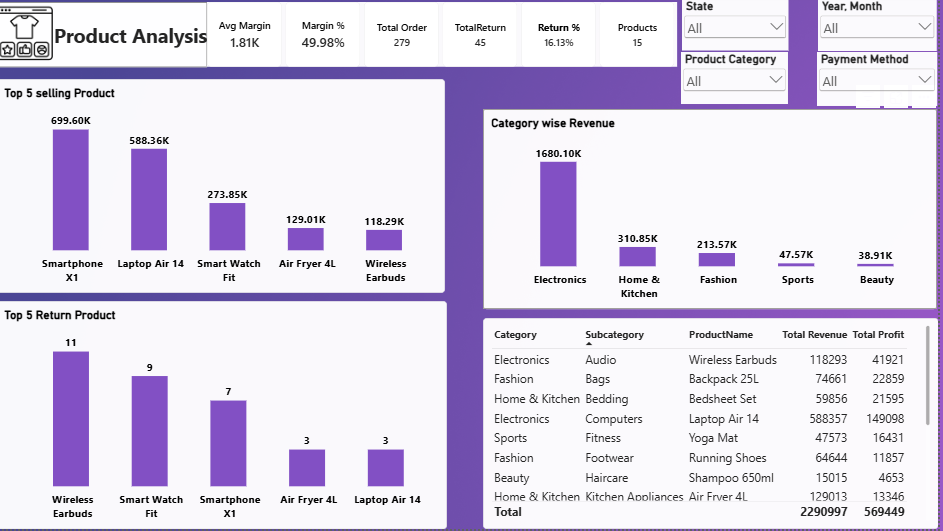

This screenshot's page, from the dashboard's own definition file:
{"tool":"powerbi","page":{"name":"product analysis","canvas":[1920,1080],"ordinal":1},"visuals":[{"type":"columnChart","title":"Top 5 selling Product","fields":{"Category":["Products_Dim.ProductName"],"Y":["01_DAX (2).Total Revenue"]},"box":[0,163,914.9,436.1],"z":0},{"type":"cardVisual","fields":{"Data":["01_DAX (2).AvgMargin","01_DAX (2).AvgMargin%","01_DAX (2).Total Order","01_DAX (2).TotalReturn","01_DAX (2).Return %","01_DAX (2).Total Products"]},"box":[430,6.1,957.7,132.5],"z":1000},{"type":"columnChart","title":"Category wise Revenue","fields":{"Category":["Products_Dim.Category"],"Y":["01_DAX (2).Total Revenue"]},"box":[992.4,224.2,925.1,407.5],"z":2000},{"type":"tableEx","title":"Top 5 selling Product","fields":{"Values":["Products_Dim.Category","Products_Dim.Subcategory","Products_Dim.ProductName","01_DAX (2).Total Revenue","01_DAX (2).Total Profit"]},"box":[991.6,649.8,928.4,430.4],"z":3000},{"type":"columnChart","title":"Top 5 Return Product","fields":{"Category":["Products_Dim.ProductName"],"Y":["Sum(Returns_Fact.ReturnedQuantity)"]},"box":[0,615.4,919,464.6],"z":4000},{"type":"slicer","fields":{"Values":["Date_Dim.Year","Date_Dim.MonthName"]},"box":[1675,0,242.5,106],"z":4001},{"type":"slicer","fields":{"Values":["Customers_Dim.State"]},"box":[1397.1,0,217.3,105.5],"z":4003},{"type":"slicer","fields":{"Values":["Orders_Fact.PaymentMethod"]},"box":[1673,108,244.5,110],"z":4004},{"type":"slicer","fields":{"Values":["Products_Dim.Category"]},"box":[1395.8,108,218,106],"z":4005},{"type":"shape","title":"Sales Analysis Dashboard","box":[0,6.3,430.4,132.9],"z":4006},{"type":"image","box":[0,0,116,139.3],"z":4007}]}

Visuals, with their boxes in screenshot pixels (x1, y1, x2, y2), scaled from the page's 1920x1080 canvas onto the 943x531 screenshot:
"Top 5 selling Product" columnChart: select_region(0, 80, 449, 295)
cardVisual - 01_DAX (2).AvgMargin x 01_DAX (2).AvgMargin%: select_region(211, 3, 682, 68)
"Category wise Revenue" columnChart: select_region(487, 110, 942, 311)
"Top 5 selling Product" tableEx: select_region(487, 319, 942, 530)
"Top 5 Return Product" columnChart: select_region(0, 303, 451, 530)
slicer - Date_Dim.Year x Date_Dim.MonthName: select_region(823, 0, 942, 52)
slicer - Customers_Dim.State: select_region(686, 0, 793, 52)
slicer - Orders_Fact.PaymentMethod: select_region(822, 53, 942, 107)
slicer - Products_Dim.Category: select_region(686, 53, 793, 105)
"Sales Analysis Dashboard" shape: select_region(0, 3, 211, 68)
image: select_region(0, 0, 57, 68)
